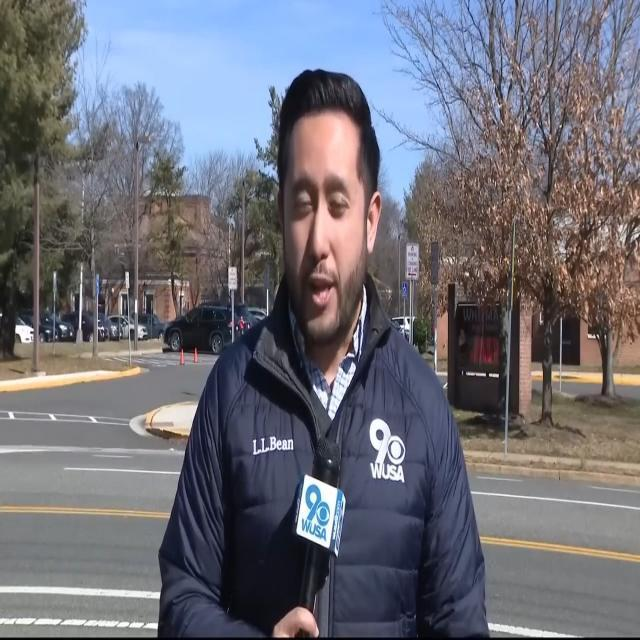non-fight: (163, 25, 514, 640)
